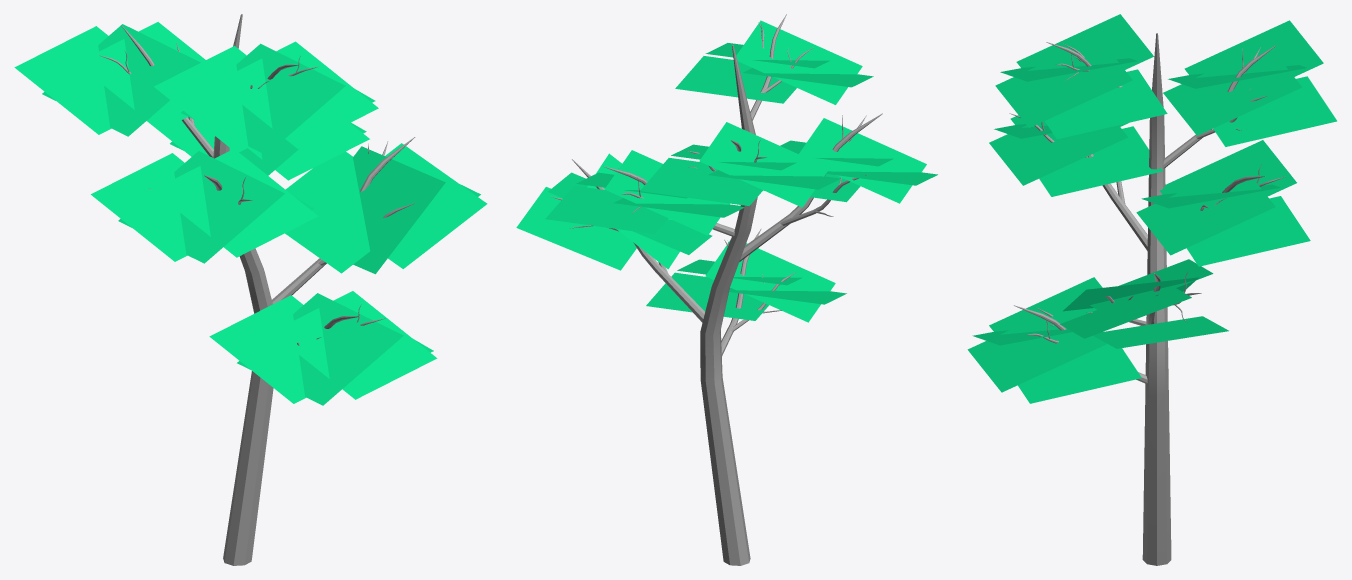
3 views of the same model, side by side, from view 1: azimuth 30°, elevation 25°; view 2: azimuth 150°, elevation 25°; view 3: azimuth 270°, elevation 25° (orthographic). The views are drawn at different scales.
Visible parts, largest first — view 1: pasted__pasted__pasted__pasted__pasted__pasted__pasted__past; view 2: pasted__pasted__pasted__pasted__pasted__pasted__pasted__past; view 3: pasted__pasted__pasted__pasted__pasted__pasted__pasted__past.
Part boxes in pixels (<box>): pasted__pasted__pasted__pasted__pasted__pasted__pasted__past: <box>14,14,487,565</box>; pasted__pasted__pasted__pasted__pasted__pasted__pasted__past: <box>516,14,937,565</box>; pasted__pasted__pasted__pasted__pasted__pasted__pasted__past: <box>967,14,1336,565</box>.
Bounding box in the file's own units: 289 × 384 × 244.
